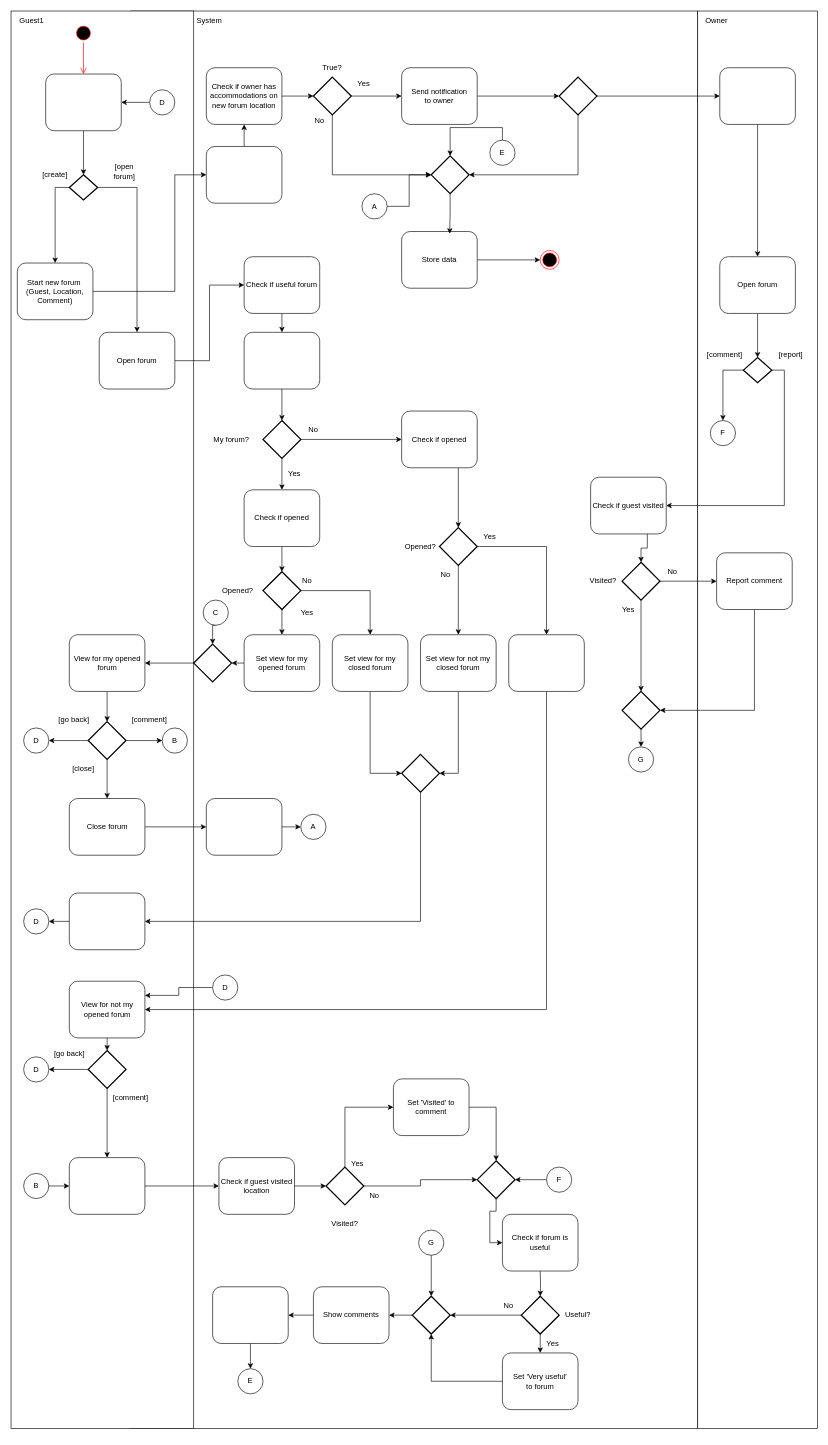
The diagram is 828 pixels wide and 1445 high, and some of its shapes have lost their labels. The shapes that lost their labels are listed below. From the top down, each one's centre as x and y in pixels, then its label:
point (83, 102): Forum view
point (757, 95): Recieve information
point (244, 174): Create forum
point (281, 360): Check if my forum
point (546, 662): Set view for not my opened forum
point (244, 826): Update forum to closed
point (107, 921): View for closed forum
point (107, 1185): Leave comment
point (250, 1314): Update list with comments
